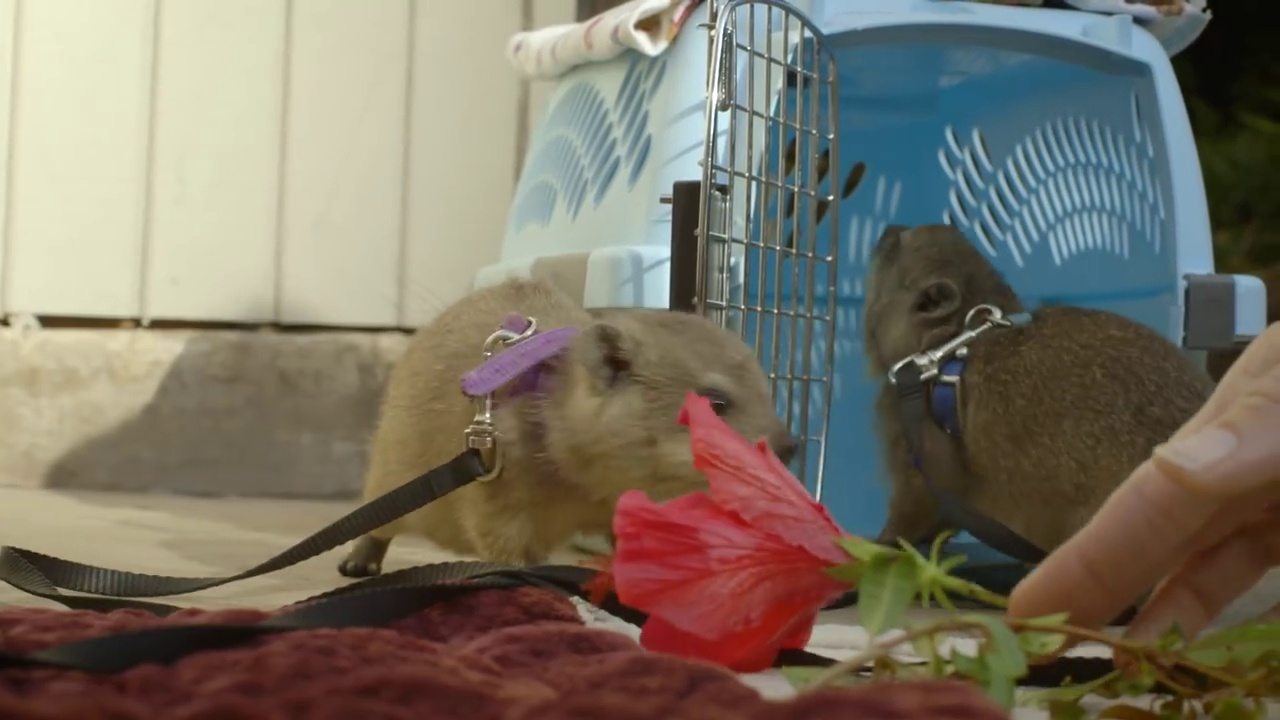Rock Hyrex: (336, 270, 808, 624), (858, 222, 1214, 562)
